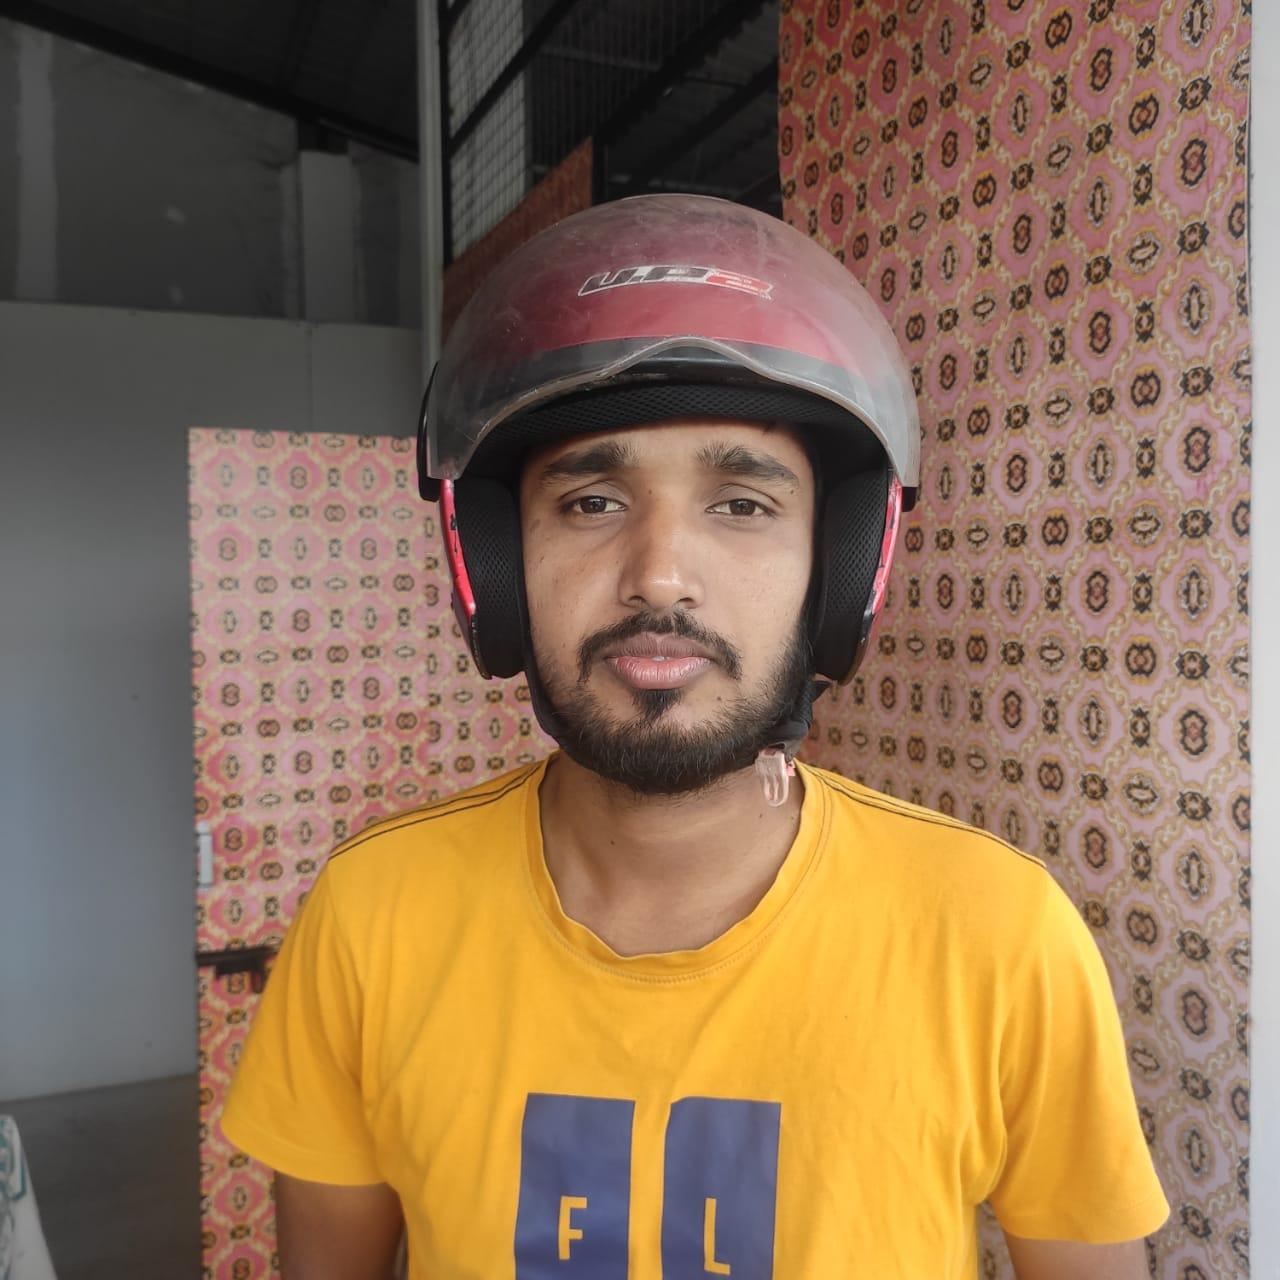helmet: (410, 192, 925, 704)
